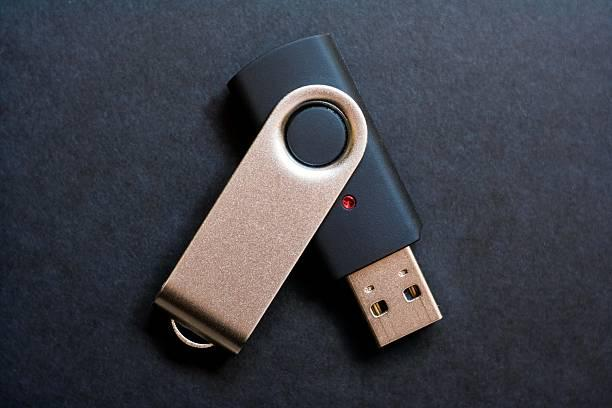USB Flash Drive: (154, 34, 442, 356)
